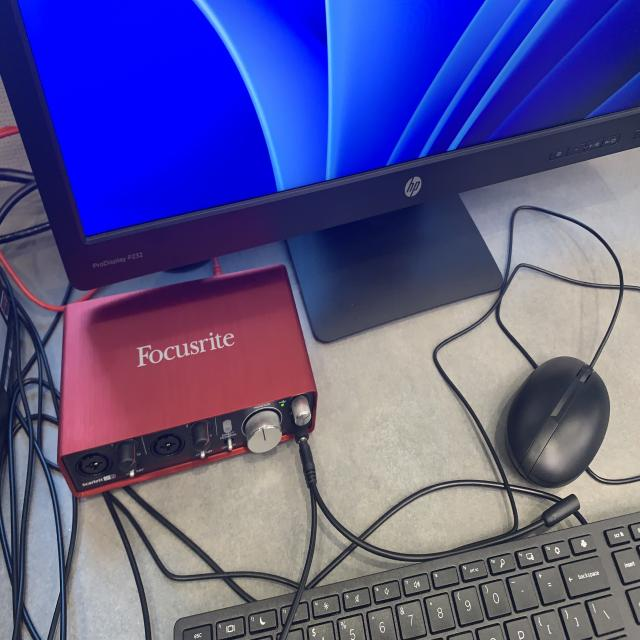Mouse: (502, 346, 613, 492)
